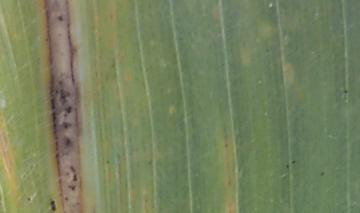tarspot: (59, 87, 71, 103), (60, 120, 71, 131), (49, 199, 57, 213), (67, 183, 78, 193), (63, 104, 74, 114), (64, 135, 71, 148), (56, 14, 65, 23), (72, 172, 79, 183), (25, 195, 34, 203), (290, 158, 298, 166), (56, 78, 64, 86), (63, 195, 71, 202), (319, 169, 325, 178), (342, 88, 349, 95), (284, 162, 291, 169), (222, 142, 229, 149)
